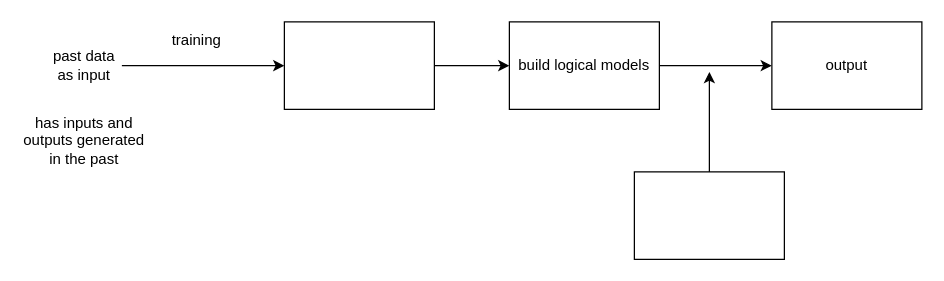
The diagram is 944 pixels wide and 281 high, and some of its shapes have lost their labels. The shapes that lost their labels are listed below. From the top down, each one's centre as x and y in pixels, then its label:
pixel 358 65: Machine learning application
pixel 708 215: New data
